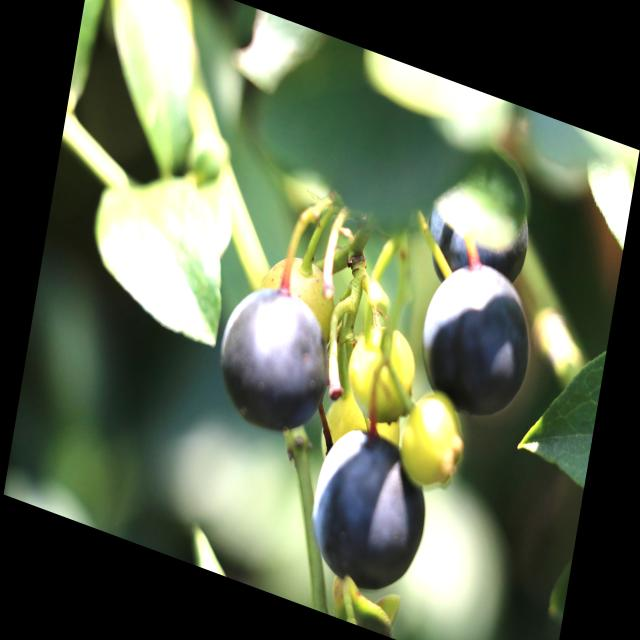blueberry: (300, 412, 436, 607), (415, 247, 540, 428), (209, 270, 336, 443), (419, 163, 538, 312)
blueberry-unripe: (392, 376, 474, 496), (340, 313, 420, 433), (256, 243, 346, 348)
